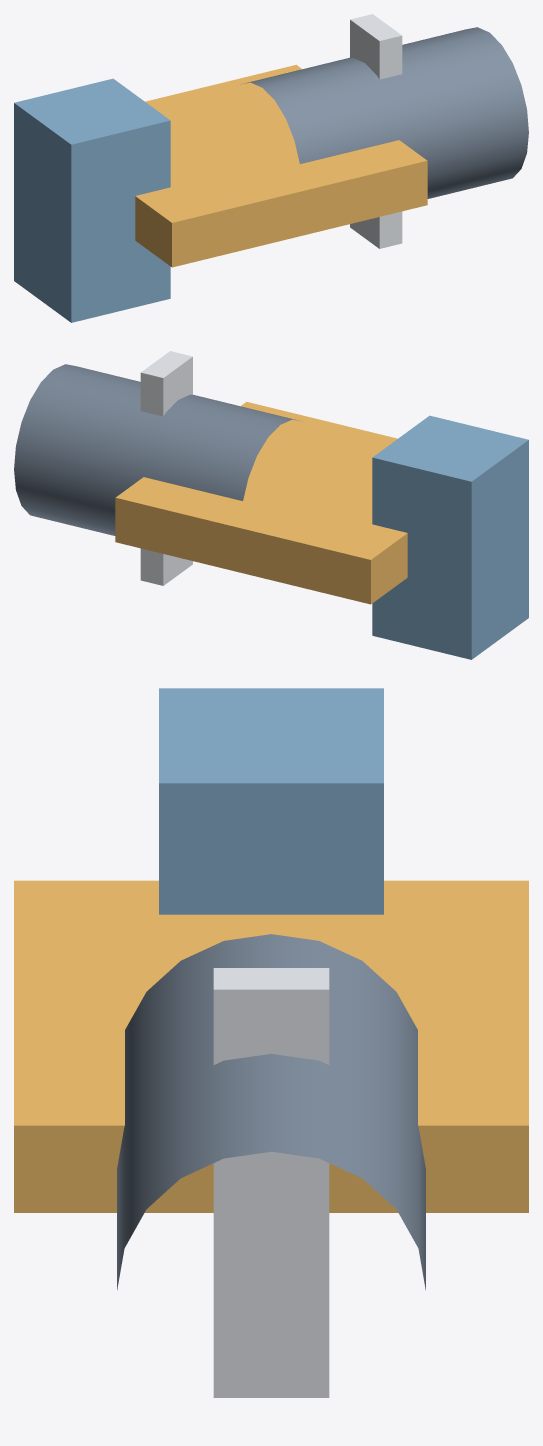
File: levers_knuckle_cotter_joint.glb
3 renders of one model, top to bottom at view 1: azimuth 30°, elevation 25°; view 2: azimuth 150°, elevation 25°; view 3: azimuth 270°, elevation 25°, orthographic. The views are drawn at different scales.
Parts seen in each view (by area): view 1: BellCrankRightAngleLever, ForkEyeKnuckleJointFork, SpigotSocketCollarBody, HardenedTaperCotterPin; view 2: BellCrankRightAngleLever, ForkEyeKnuckleJointFork, SpigotSocketCollarBody, HardenedTaperCotterPin; view 3: BellCrankRightAngleLever, SpigotSocketCollarBody, ForkEyeKnuckleJointFork, HardenedTaperCotterPin.
Part boxes in pixels (left/top/right/bottom): BellCrankRightAngleLever: left=135, top=64, right=427, bottom=267; ForkEyeKnuckleJointFork: left=14, top=78, right=170, bottom=322; SpigotSocketCollarBody: left=241, top=27, right=528, bottom=198; HardenedTaperCotterPin: left=350, top=14, right=402, bottom=248; BellCrankRightAngleLever: left=115, top=401, right=407, bottom=604; ForkEyeKnuckleJointFork: left=372, top=415, right=528, bottom=659; SpigotSocketCollarBody: left=14, top=364, right=301, bottom=535; HardenedTaperCotterPin: left=140, top=351, right=192, bottom=585; BellCrankRightAngleLever: left=14, top=880, right=528, bottom=1212; SpigotSocketCollarBody: left=117, top=934, right=425, bottom=1290; ForkEyeKnuckleJointFork: left=159, top=688, right=383, bottom=914; HardenedTaperCotterPin: left=213, top=968, right=329, bottom=1397.
Size of the model in its own units: 1.58 by 0.7 by 0.8.
